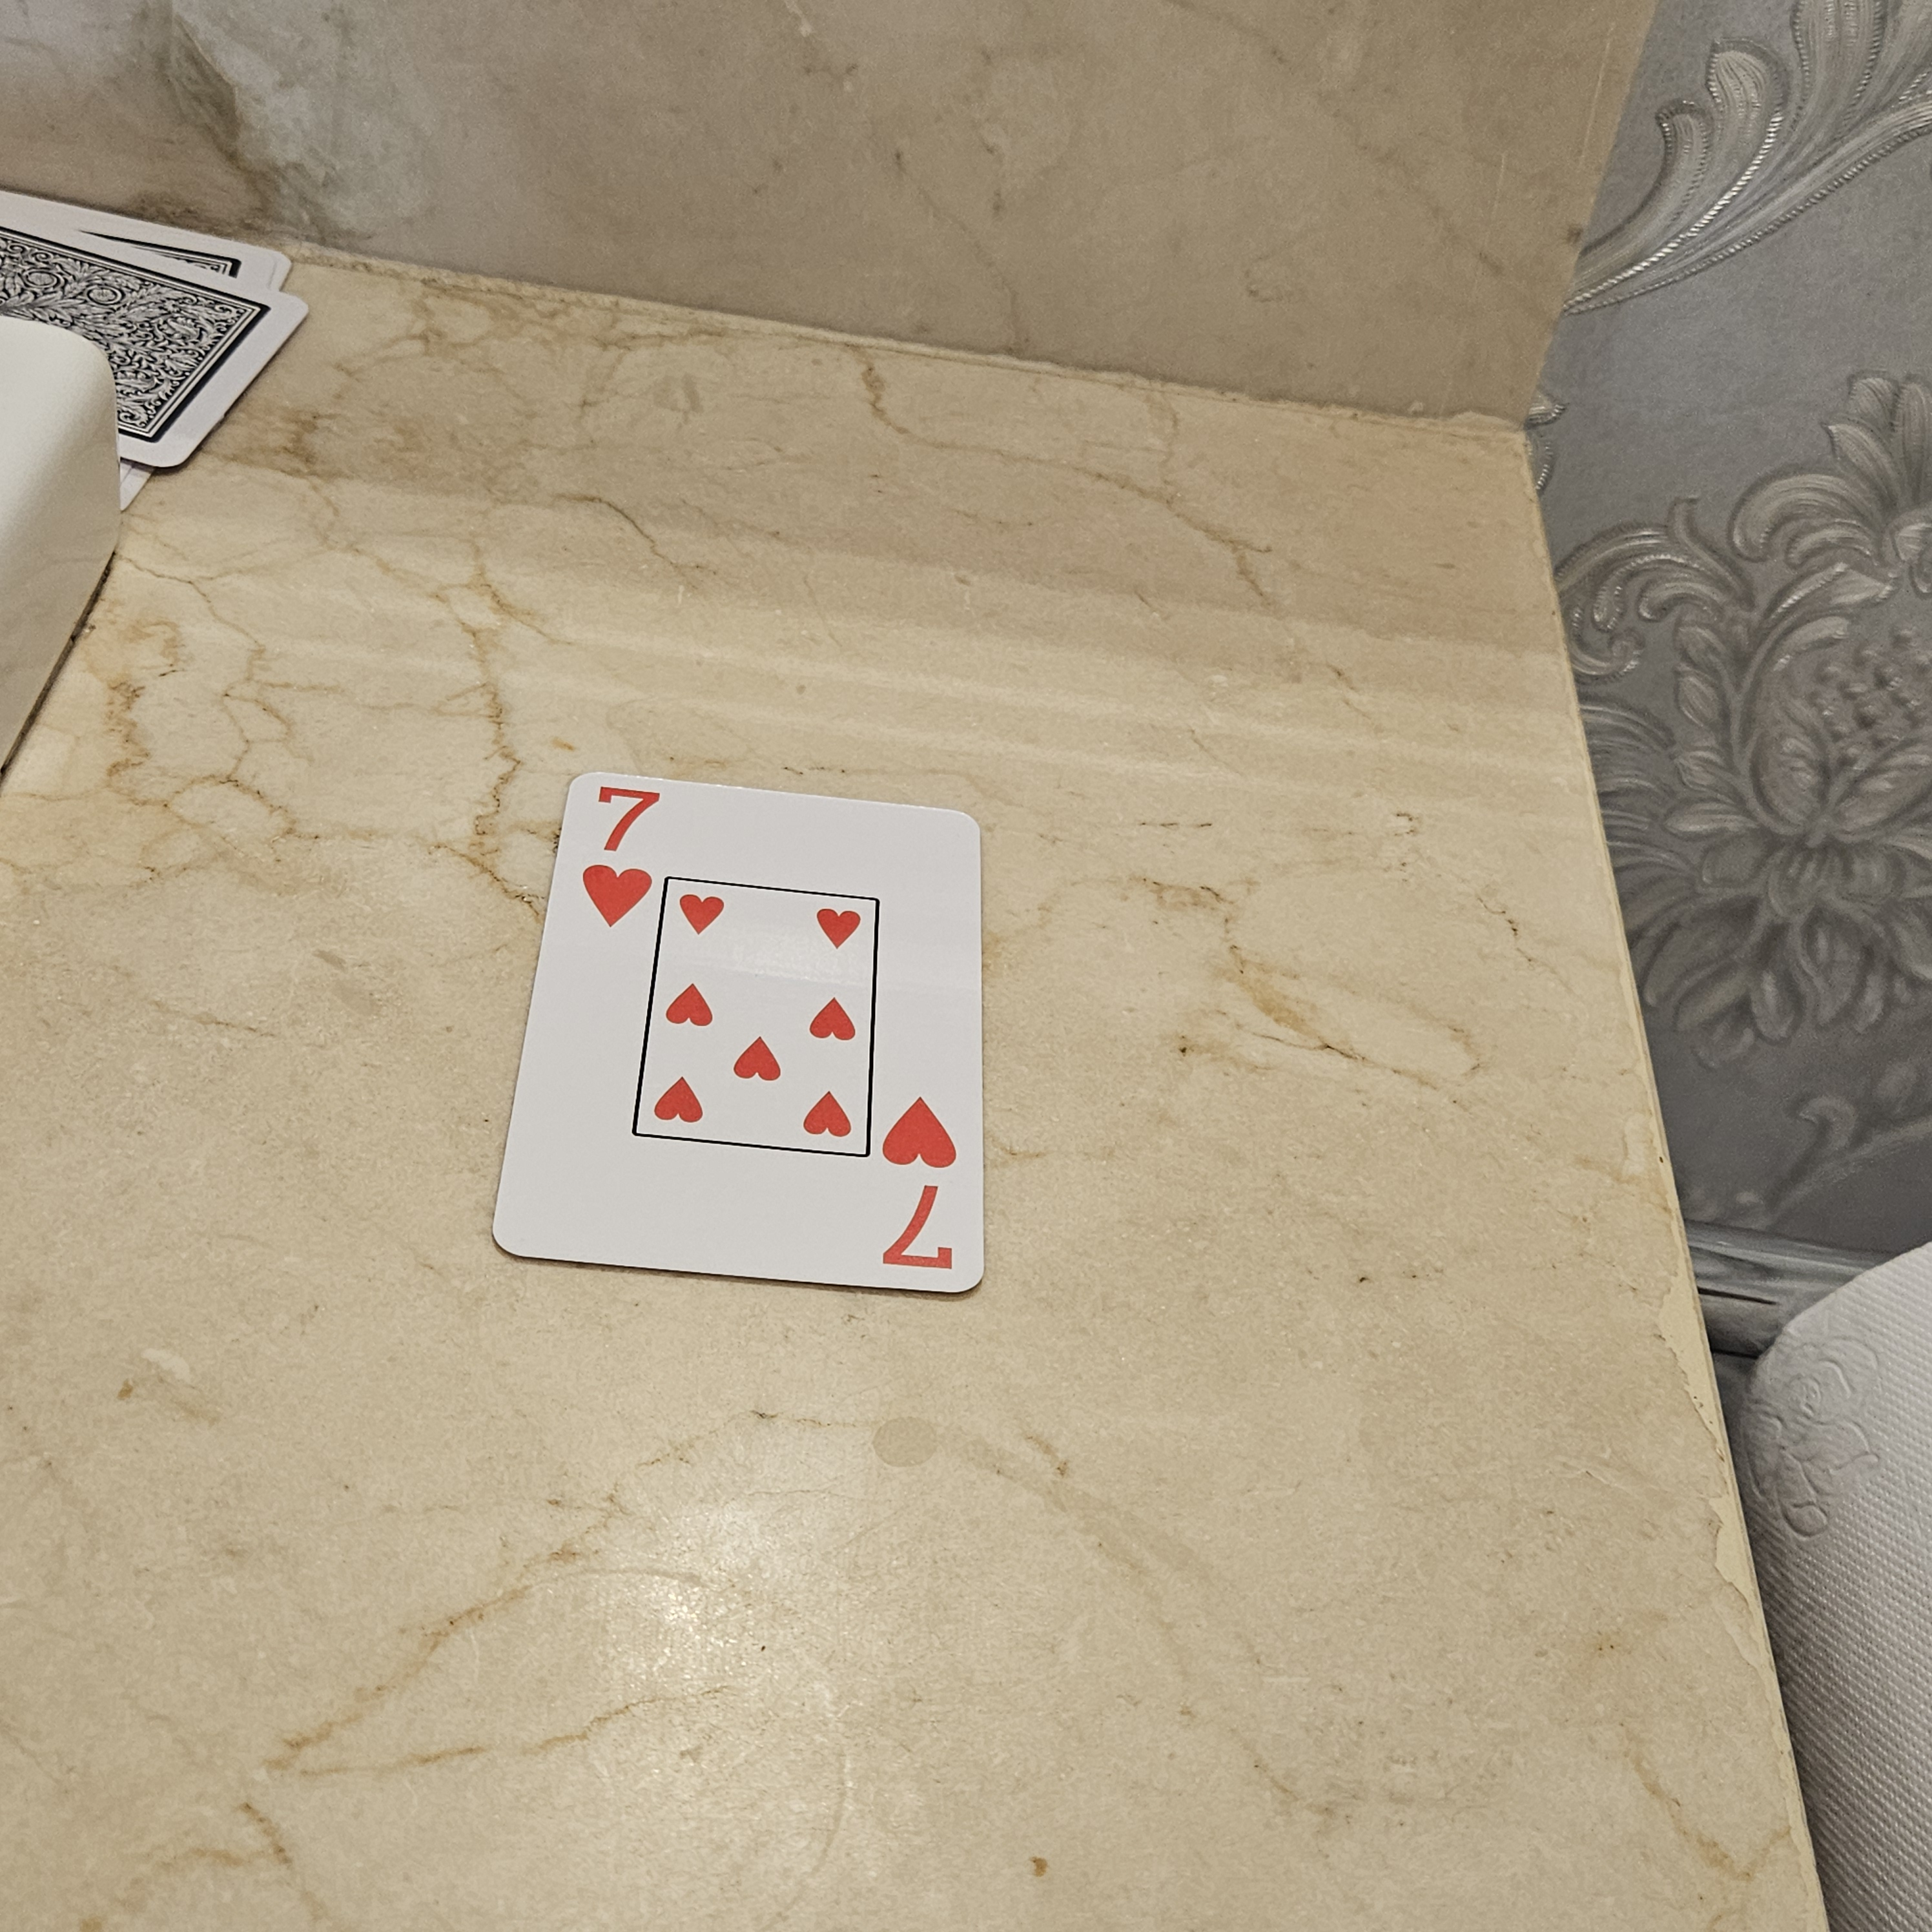7C: (860, 1088, 984, 1284), (564, 770, 671, 934)
